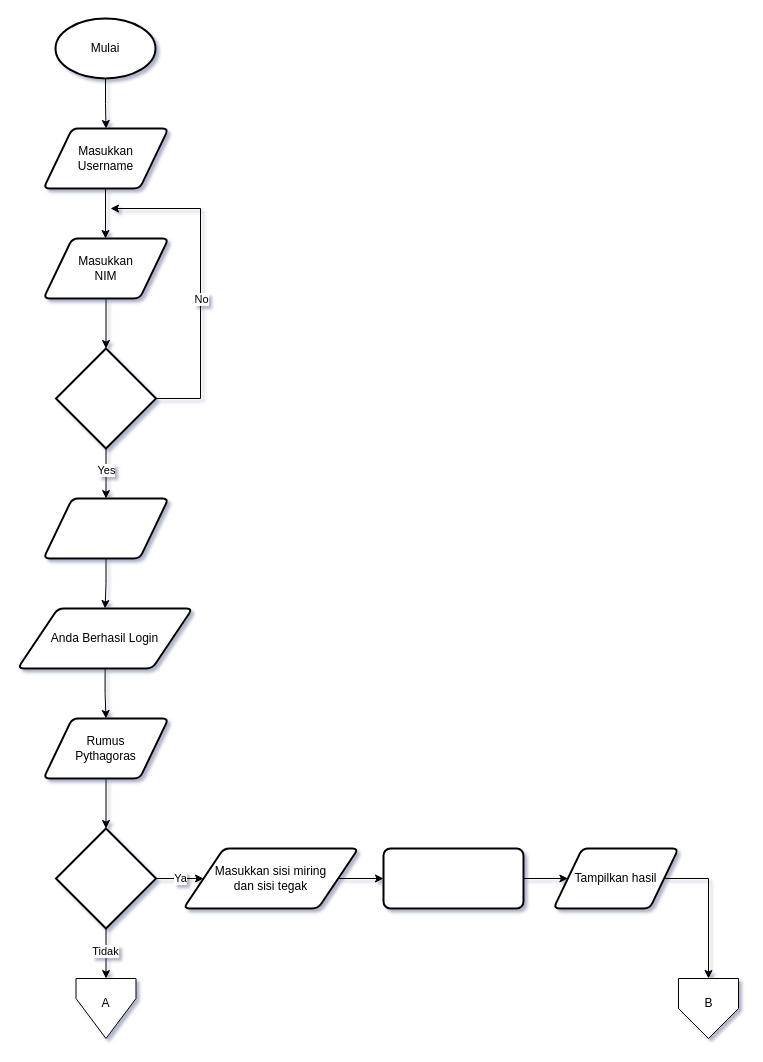
Image size: 763x1062. Some labels were removed from this diagram. Each missing label, with the centre of its shape:
a**2 = c**2 - b**2: point 453,878
if = 1 "Alas": point 105,878
if nim.isdigit(): point 105,398
Masukkan Password: point 105,528
